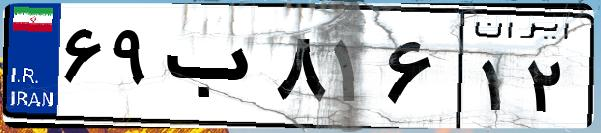1: (330, 28, 385, 110), (475, 38, 525, 113)
2: (525, 38, 570, 115)
6: (385, 28, 445, 110), (57, 26, 110, 100)
8: (270, 28, 330, 110)
9: (110, 28, 158, 98)
ب: (158, 20, 270, 120)
